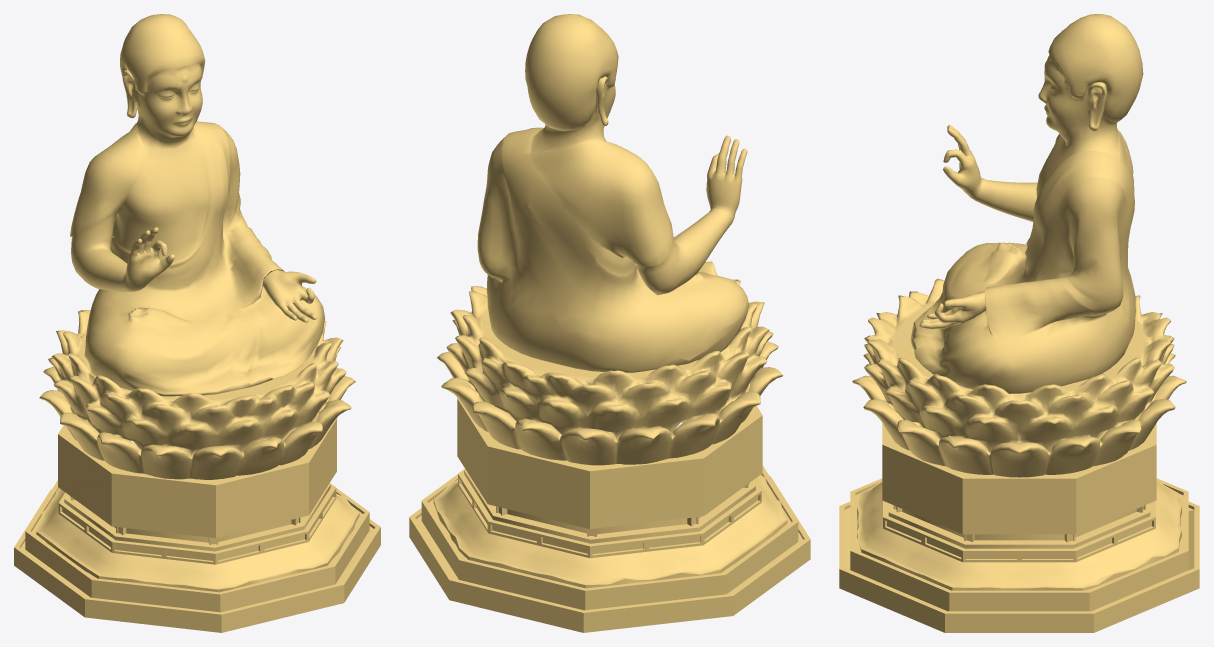
Rendered from center-buddha.glb.
3 renders of one model, left to right at view 1: azimuth 30°, elevation 25°; view 2: azimuth 150°, elevation 25°; view 3: azimuth 270°, elevation 25°, orthographic. The views are drawn at different scales.
Parts seen in each view (by area): view 1: Buddha_Center; view 2: Buddha_Center; view 3: Buddha_Center.
Part boxes in pixels (bbox=[...]): Buddha_Center: bbox=[14, 14, 380, 632]; Buddha_Center: bbox=[409, 14, 810, 632]; Buddha_Center: bbox=[839, 14, 1199, 632].
Bounding box in the file's own units: 2.27 × 3.75 × 2.27.
